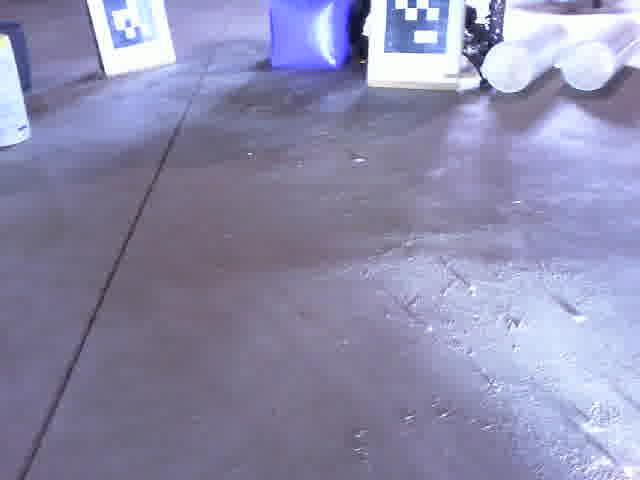coral: (485, 23, 569, 93), (564, 17, 639, 90)
